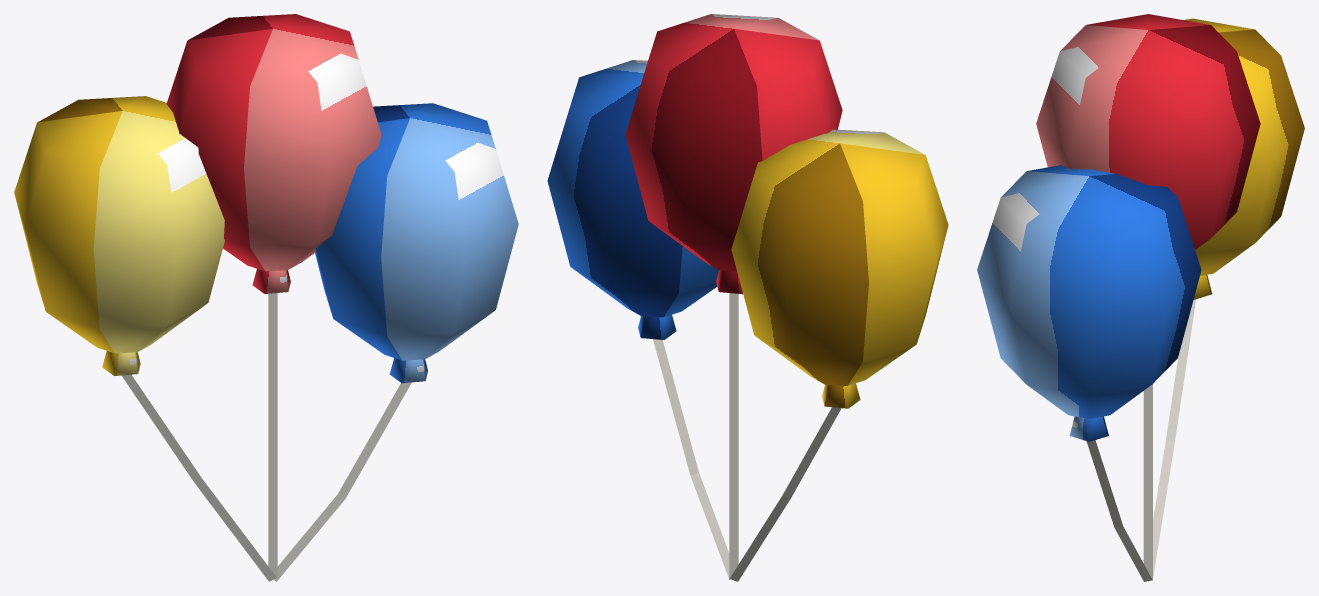
The model's file is fun-balloonBundle.glb.
3 renders of one model, left to right at view 1: azimuth 30°, elevation 25°; view 2: azimuth 150°, elevation 25°; view 3: azimuth 270°, elevation 25°, orthographic.
Parts seen in each view (by area): view 1: fun.balloonBundle; view 2: fun.balloonBundle; view 3: fun.balloonBundle.
Part boxes in pixels (x1=…): fun.balloonBundle: x1=14, y1=14, x2=518, y2=581; fun.balloonBundle: x1=547, y1=14, x2=948, y2=581; fun.balloonBundle: x1=977, y1=14, x2=1304, y2=581.
Bounding box in the file's own units: 1.6 × 1.97 × 1.06.
Materials: 4 (3 with a texture image).
